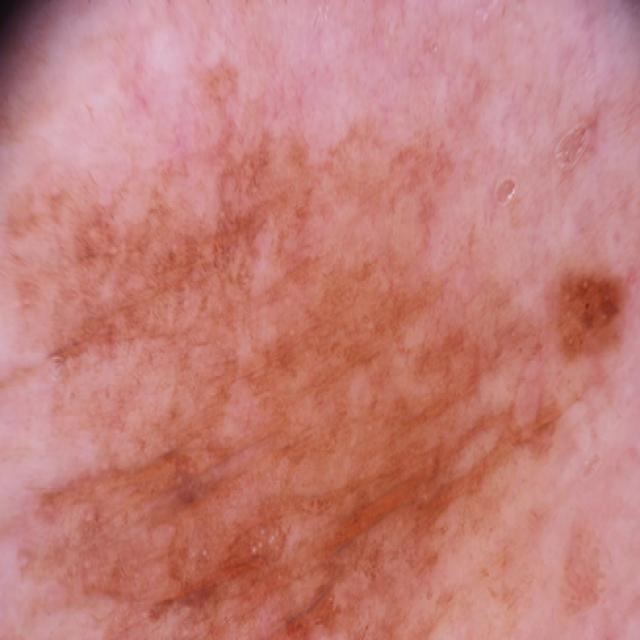Keratosis: (23, 114, 605, 640)
